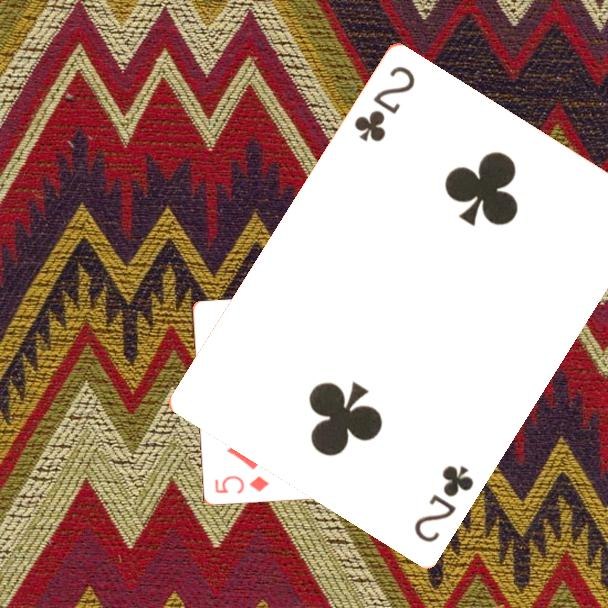c02: (350, 61, 418, 145), (410, 460, 477, 545)
d05: (211, 472, 272, 497)
